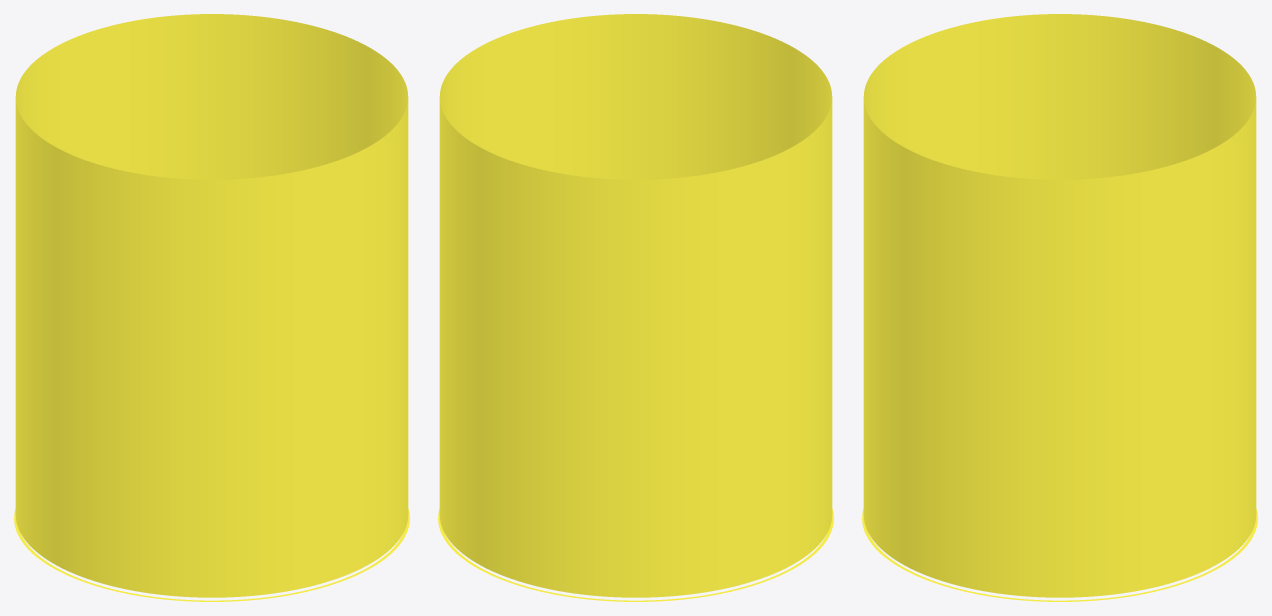
File: arena-boundary-gradient.glb
3 renders of one model, left to right at view 1: azimuth 30°, elevation 25°; view 2: azimuth 150°, elevation 25°; view 3: azimuth 270°, elevation 25°, orthographic.
Parts seen in each view (by area): view 1: BoundaryArc2, BoundaryArc3, BoundaryArc1, BoundaryArc6, BoundaryArc7, BoundaryArc4, BoundaryArc5, BoundaryArc0; view 2: BoundaryArc5, BoundaryArc4, BoundaryArc6, BoundaryArc1, BoundaryArc0, BoundaryArc3, BoundaryArc2, BoundaryArc7; view 3: BoundaryArc0, BoundaryArc7, BoundaryArc1, BoundaryArc6, BoundaryArc3, BoundaryArc4, BoundaryArc2, BoundaryArc5.
Part boxes in pixels (x1,y1,x2,y2): BoundaryArc2: (161,169,310,601); BoundaryArc3: (41,138,161,598); BoundaryArc1: (309,118,402,590); BoundaryArc6: (114,14,262,179); BoundaryArc7: (262,17,381,176); BoundaryArc4: (14,76,42,559); BoundaryArc5: (22,25,113,168); BoundaryArc0: (382,56,409,539); BoundaryArc5: (537,169,686,601); BoundaryArc4: (686,138,806,598); BoundaryArc6: (445,118,538,590); BoundaryArc1: (585,14,733,179); BoundaryArc0: (466,17,585,176); BoundaryArc3: (805,76,833,559); BoundaryArc2: (734,25,825,168); BoundaryArc7: (438,56,465,539); BoundaryArc0: (920,155,1059,601); BoundaryArc7: (1060,155,1199,601); BoundaryArc1: (862,98,921,577); BoundaryArc6: (1198,98,1257,577); BoundaryArc3: (921,14,1059,179); BoundaryArc4: (1060,14,1198,179); BoundaryArc2: (862,38,921,518); BoundaryArc5: (1198,38,1257,518).
Bounding box in the file's own units: 2.02 × 2.37 × 2.02.
Materials: 1 (1 with a texture image).
